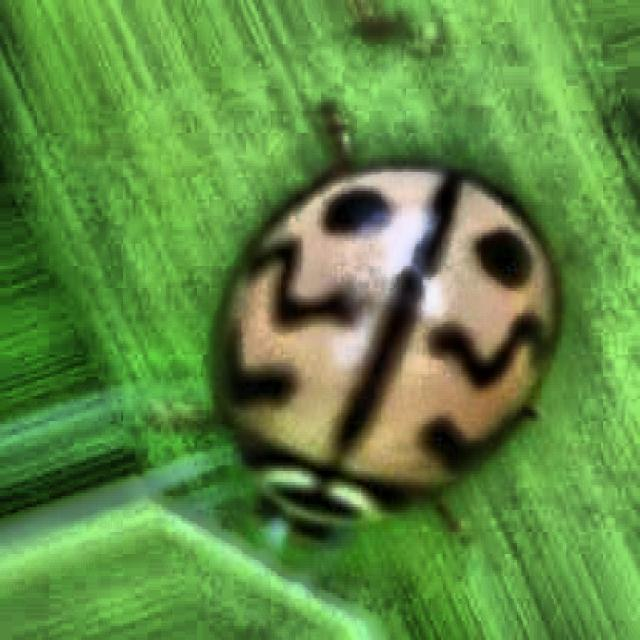Asian-Lady-beetle: (173, 69, 618, 620)
